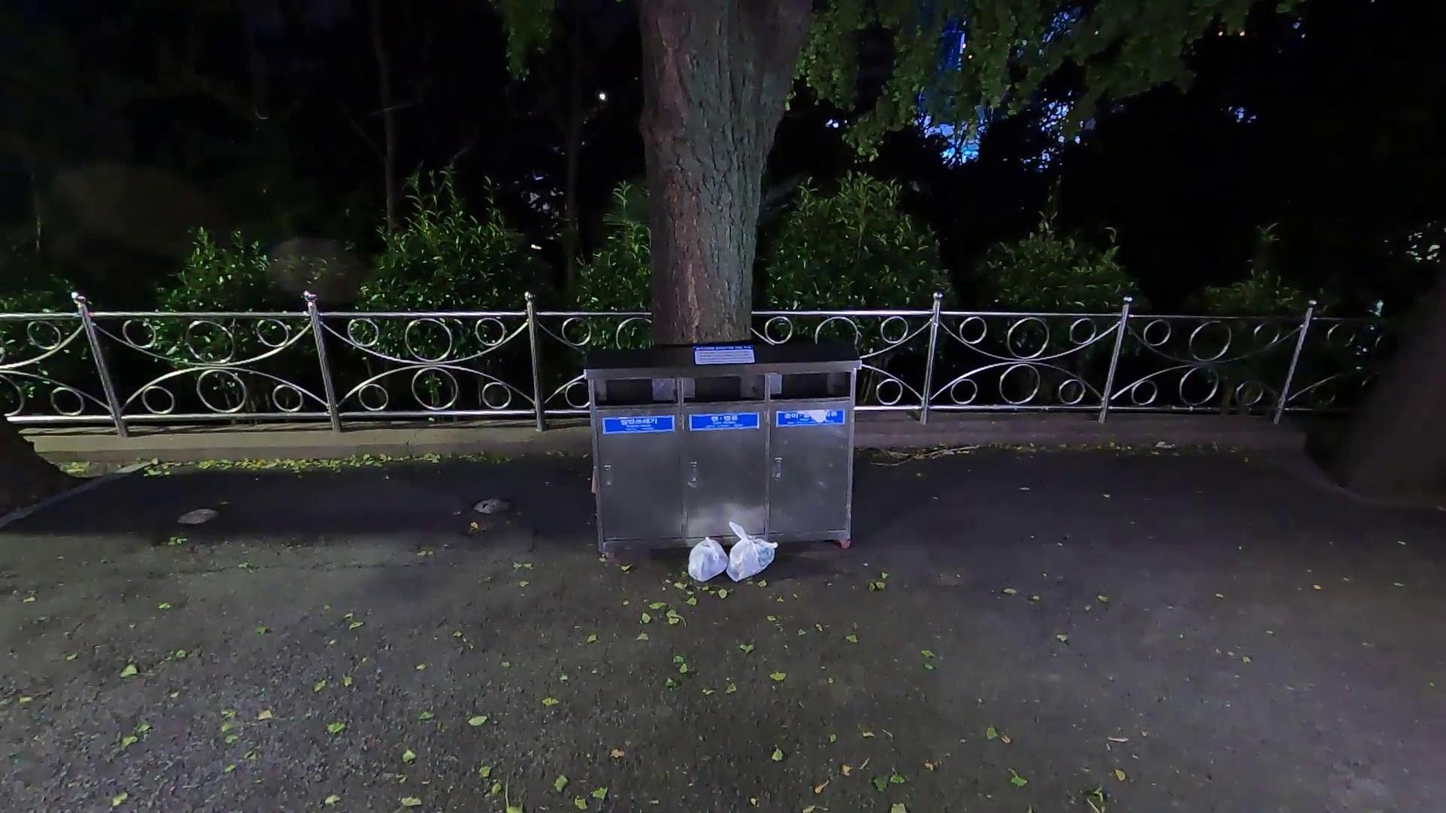trash: (725, 520, 781, 585), (687, 536, 731, 585)
